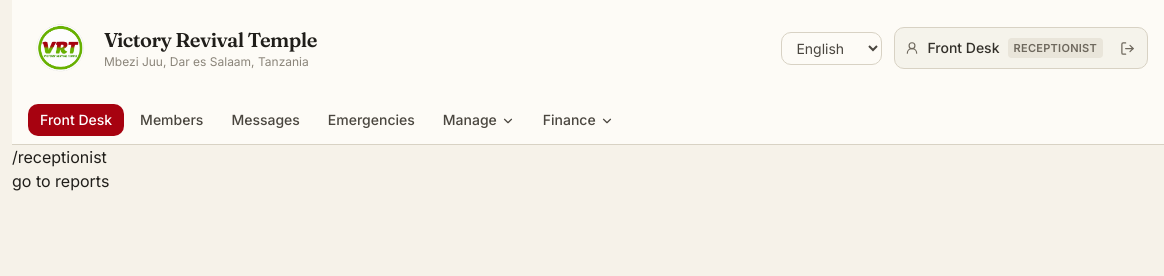
AppHeader navigation: desktop bar › shows only the destinations the signed-in role may reach
The width and height of the screenshot is (1164, 276).
expect the links read "Front Desk", "Members", "Messages", "Emergencies", in this order: met, box 28,104 -> 124,136; 140,111 -> 203,128; 231,111 -> 300,128; 328,111 -> 415,128
Click the button "Manage": (479, 120) 431,104 -> 527,136
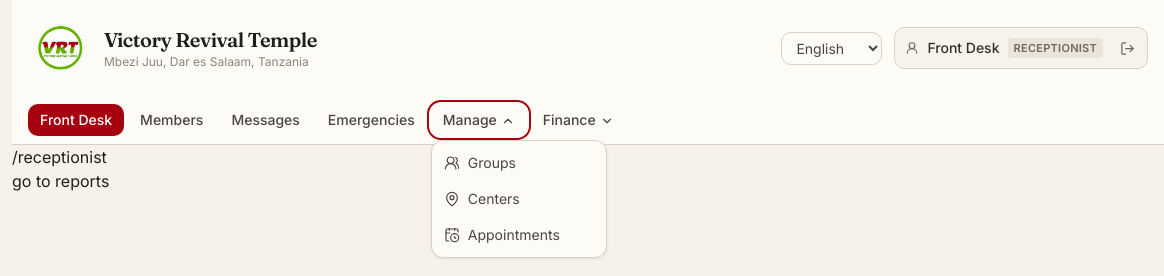
expect the links read "Groups", "Centers", "Appointments", in this order: met, box 444,154 -> 516,171; 444,190 -> 520,207; 444,226 -> 560,243
